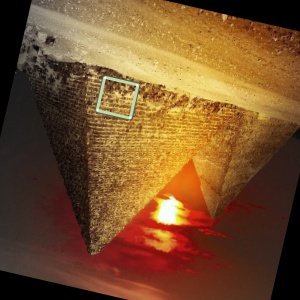square: (93, 73, 141, 123)
